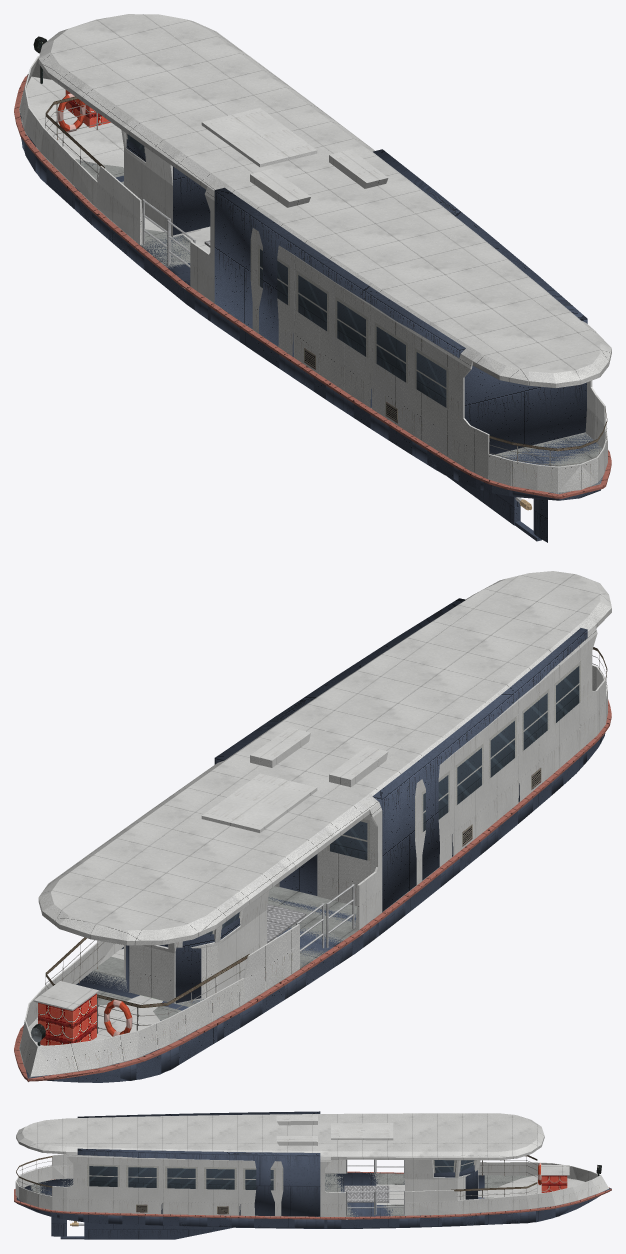
Rendered from Vaporetto.glb.
3 renders of one model, top to bottom at view 1: azimuth 30°, elevation 25°; view 2: azimuth 150°, elevation 25°; view 3: azimuth 270°, elevation 25°, orthographic. The views are drawn at different scales.
Parts seen in each view (by area): view 1: Roof, Superstructure, HydroHull, Hull, Windows, Fittings, Railings; view 2: Roof, Superstructure, HydroHull, Hull, Windows, Fittings, Railings, Fitout; view 3: Roof, Superstructure, HydroHull, Hull, Windows, Railings, Fitout, Fittings, Rudder, Gate_Stbd_Aft, Gate_Stbd_Fwd.
Boxes of the visible parts, <box> form: Roof: <box>26,14,611,388</box>; Superstructure: <box>20,56,607,492</box>; HydroHull: <box>20,74,602,500</box>; Hull: <box>14,74,611,541</box>; Windows: <box>126,133,448,408</box>; Fittings: <box>33,36,397,423</box>; Railings: <box>45,96,607,466</box>; Roof: <box>28,571,611,1045</box>; Superstructure: <box>20,633,607,1076</box>; HydroHull: <box>25,598,601,1080</box>; Hull: <box>14,690,611,1082</box>; Windows: <box>205,661,580,934</box>; Fittings: <box>31,768,541,1045</box>; Railings: <box>45,647,607,1033</box>; Fitout: <box>267,904,306,943</box>; Roof: <box>16,1113,584,1219</box>; Superstructure: <box>15,1115,608,1216</box>; HydroHull: <box>16,1111,611,1228</box>; Hull: <box>14,1171,611,1239</box>; Windows: <box>87,1160,475,1190</box>; Railings: <box>16,1155,537,1199</box>; Fitout: <box>344,1185,389,1202</box>; Fittings: <box>136,1163,601,1214</box>; Rudder: <box>51,1217,66,1236</box>; Gate_Stbd_Aft: <box>346,1191,375,1215</box>; Gate_Stbd_Fwd: <box>375,1190,404,1214</box>.
Size of what is drawn, in the model's own units: 4.44 by 4.86 by 23.93.
13 materials, 13 textured.
